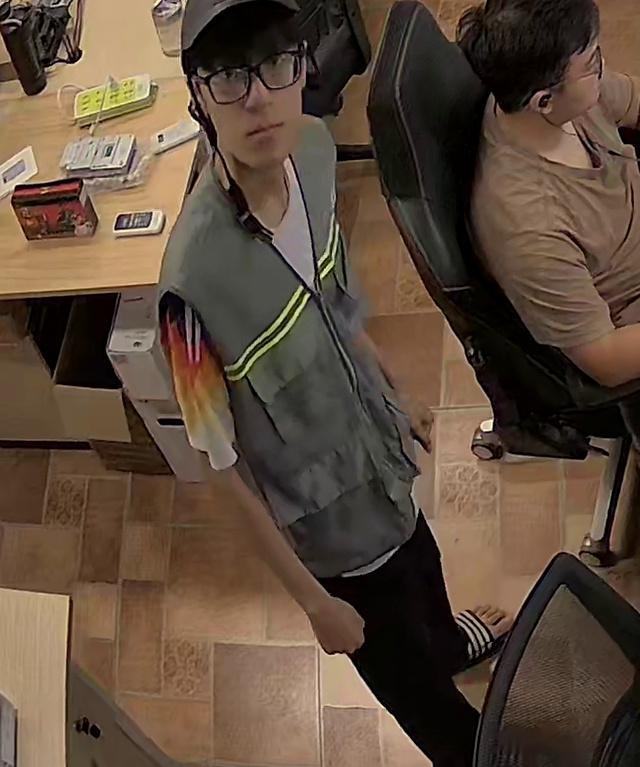helmet: (184, 1, 302, 65)
no_helmet: (462, 0, 595, 114)
none: (472, 78, 637, 374)
vest: (157, 119, 425, 571)
